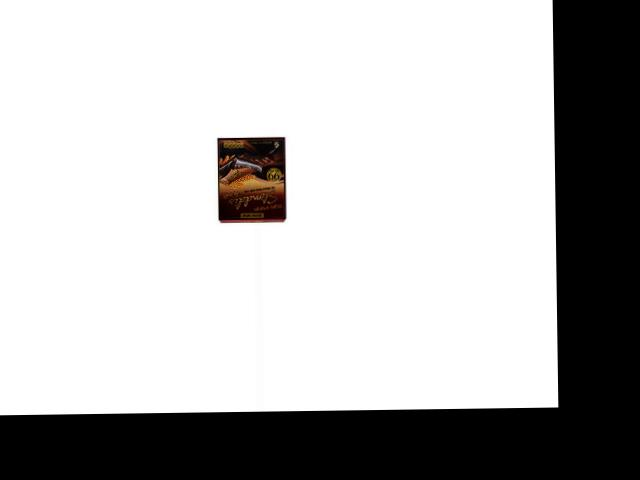chocolate: (217, 136, 286, 223)
